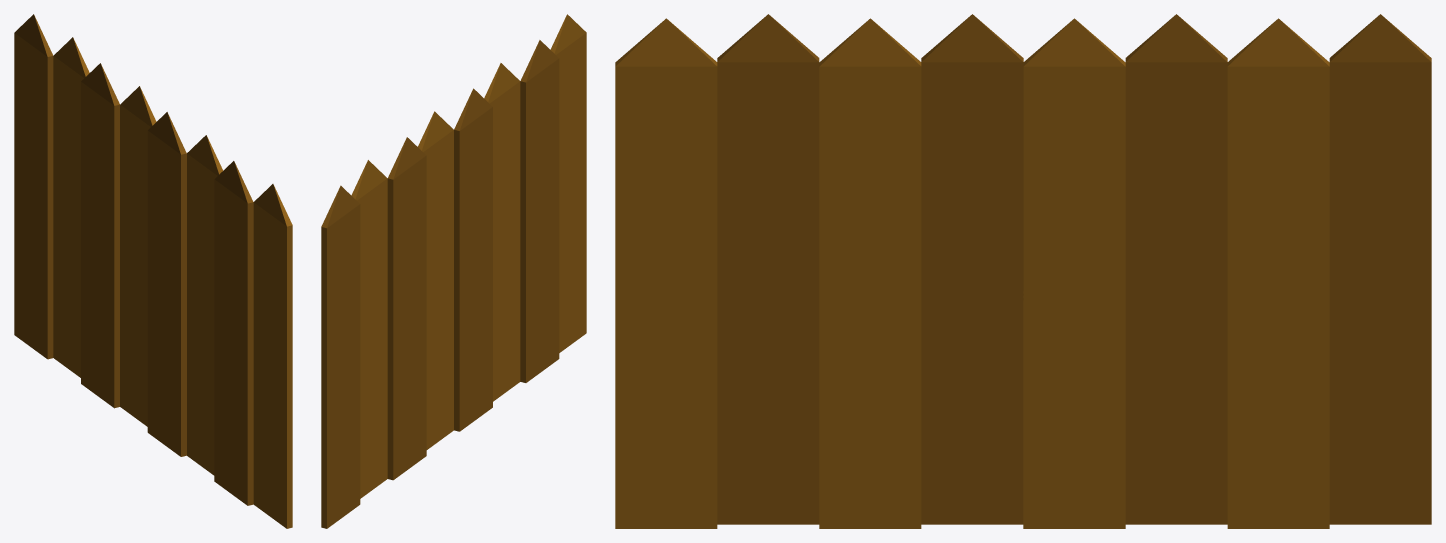
Rendered from woodfence.fbx.
3 renders of one model, left to right at view 1: azimuth 30°, elevation 25°; view 2: azimuth 150°, elevation 25°; view 3: azimuth 270°, elevation 25°, orthographic. The views are drawn at different scales.
Visible parts, largest first — view 1: Cube.006, Cube, Cube.007, Cube.004, Cube.002, Cube.001, Cube.003, Cube.005; view 2: Cube, Cube.002, Cube.006, Cube.004, Cube.005, Cube.001, Cube.007, Cube.003; view 3: Cube.006, Cube, Cube.004, Cube.002, Cube.001, Cube.003, Cube.005, Cube.007.
Boxes of the visible parts, x1,y1,x2,y2 form: Cube.006: (214, 161, 253, 505); Cube: (14, 14, 53, 359); Cube.007: (253, 184, 292, 528); Cube.004: (147, 112, 186, 456); Cube.002: (81, 63, 119, 408); Cube.001: (53, 37, 89, 377); Cube.003: (120, 86, 156, 426); Cube.005: (187, 135, 223, 475); Cube: (321, 185, 360, 528); Cube.002: (387, 137, 426, 480); Cube.006: (520, 40, 559, 382); Cube.004: (454, 88, 492, 431); Cube.005: (484, 63, 520, 401); Cube.001: (351, 160, 387, 498); Cube.007: (550, 14, 586, 352); Cube.003: (418, 111, 453, 449); Cube.006: (717, 14, 819, 524); Cube: (1329, 14, 1431, 524); Cube.004: (921, 14, 1023, 524); Cube.002: (1125, 14, 1227, 524); Cube.001: (1227, 18, 1329, 528); Cube.003: (1023, 18, 1125, 528); Cube.005: (819, 18, 921, 528); Cube.007: (615, 18, 717, 528).
Size of the model in its own units: 0.4 by 11 by 16.
